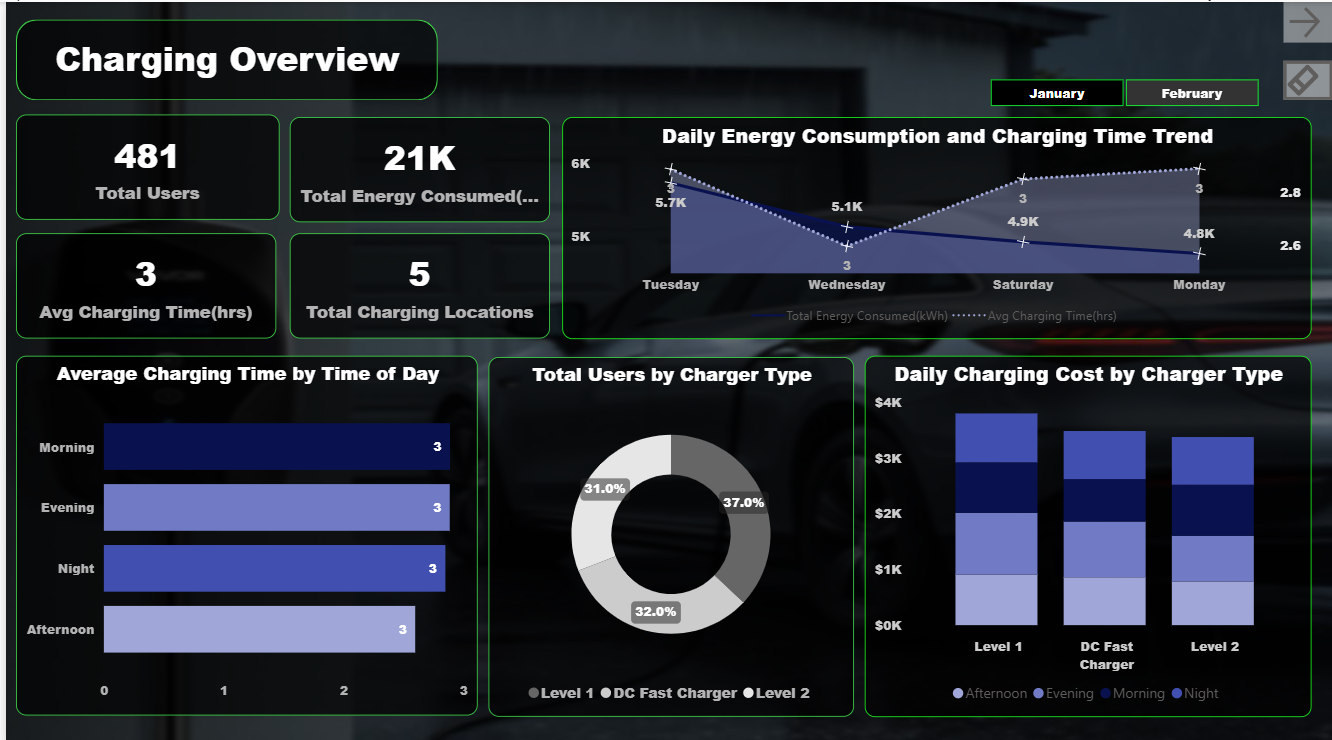

What the dashboard file says about the page in this screenshot:
{"tool":"powerbi","page":{"name":"Charging Overview","canvas":[1280,720],"ordinal":1},"visuals":[{"type":"shape","box":[9.4,17.2,407,78],"z":0},{"type":"textbox","box":[26.5,26.5,374.3,60.8],"z":1000},{"type":"card","fields":{"Values":["Calculated-tbl.Total Users"]},"box":[9.4,109.2,254.2,101.4],"z":2000},{"type":"card","fields":{"Values":["Calculated-tbl.Total Energy (kWh)"]},"box":[274.5,110.7,251.1,101.4],"z":3000},{"type":"card","fields":{"Values":["Calculated-tbl.Avg Charging Time(hrs)"]},"box":[9.4,223,251.1,101.4],"z":4000},{"type":"card","fields":{"Values":["Calculated-tbl.Total Vehicle Models"]},"box":[274.5,223,251.1,101.4],"z":5000},{"type":"clusteredBarChart","title":"Average Charging Time by Time of Day","fields":{"Category":["Dim_period.Time of Day"],"Y":["Calculated-tbl.Avg Charging Time(hrs)"]},"box":[9.6,341.7,446,347.2],"z":6000},{"type":"donutChart","fields":{"Category":["Dim_Charger.Charger Type"],"Y":["Calculated-tbl.Total Users"]},"box":[465.2,343.1,352.7,347.2],"z":7000},{"type":"lineChart","title":"Daily Energy Consumption and Charging Time Trend","fields":{"Category":["Dim_period.Day of Week"],"Y":["Calculated-tbl.Total Energy Consumed(kWh)"],"Y2":["Calculated-tbl.Avg Charging Time(hrs)"]},"box":[536.5,111.1,723.2,214.1],"z":8000},{"type":"columnChart","title":"Daily Charging Cost by Charger Type","fields":{"Category":["Dim_Charger.Charger Type"],"Series":["Dim_period.Time of Day"],"Y":["Calculated-tbl.Total Cost"]},"box":[828.8,341.7,430.9,348.5],"z":9000},{"type":"actionButton","box":[1232.9,0,47.4,39.5],"z":10000},{"type":"slicer","fields":{"Values":["Fact_EV.Charging Start Date.Variation.Date Hierarchy.Month"]},"box":[924.1,67.6,308.8,38.6],"z":11000},{"type":"actionButton","box":[1232.9,56.9,47.4,37.9],"z":12000}]}

Visuals, with their boxes in screenshot pixels (x1, y1, x2, y2), scaled from the page's 1280x720 canvas onto the 1332x740 screenshot:
shape: box=[10, 18, 433, 98]
textbox: box=[28, 27, 417, 90]
card - Calculated-tbl.Total Users: box=[10, 112, 274, 216]
card - Calculated-tbl.Total Energy (kWh): box=[286, 114, 547, 218]
card - Calculated-tbl.Avg Charging Time(hrs): box=[10, 229, 271, 333]
card - Calculated-tbl.Total Vehicle Models: box=[286, 229, 547, 333]
"Average Charging Time by Time of Day" clusteredBarChart: box=[10, 351, 474, 708]
donutChart - Dim_Charger.Charger Type x Calculated-tbl.Total Users: box=[484, 353, 851, 709]
"Daily Energy Consumption and Charging Time Trend" lineChart: box=[558, 114, 1311, 334]
"Daily Charging Cost by Charger Type" columnChart: box=[862, 351, 1311, 709]
actionButton: box=[1283, 0, 1331, 41]
slicer - Fact_EV.Charging Start Date.Variation.Date Hierarchy.Month: box=[962, 69, 1283, 109]
actionButton: box=[1283, 58, 1331, 97]
